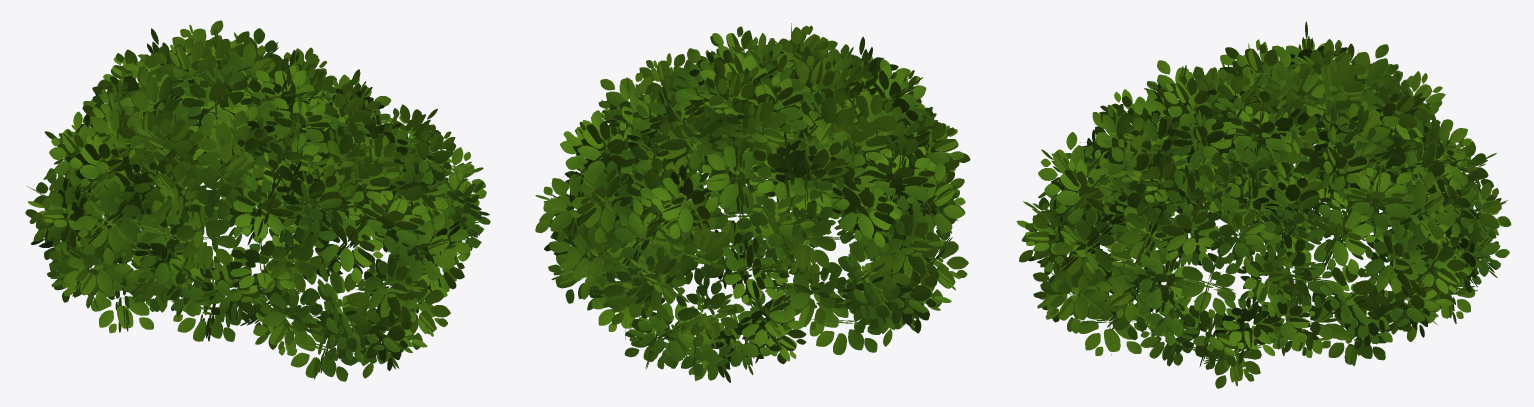
Rendered from Cam_AR_bush_002.FBX.
The picture shows the model from 3 angles, left to right: view 1: azimuth 30°, elevation 25°; view 2: azimuth 150°, elevation 25°; view 3: azimuth 270°, elevation 25°; orthographic projection. The views are drawn at different scales.
Parts seen in each view (by area): view 1: bush_002; view 2: bush_002; view 3: bush_002.
Part boxes in pixels (x1,y1,x2,y2): bush_002: (25,20,490,381); bush_002: (535,23,970,382); bush_002: (1016,21,1511,388).
Size of the model in its own units: 81.88 by 56.22 by 88.12.
